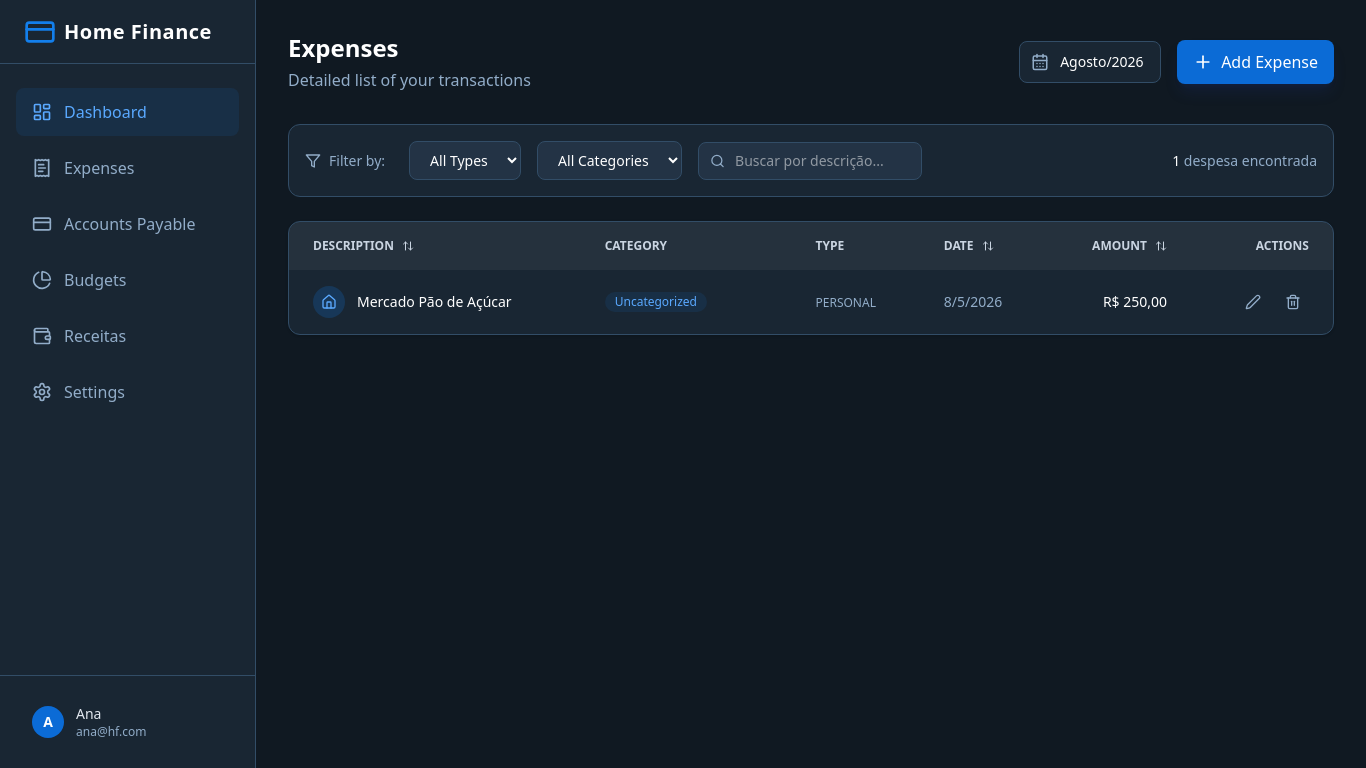
Test: Expenses (integração) › abre o modal de edição completa da despesa
Click the button named "Edit Full Expense". click: (1253, 302)
box: [1237, 286, 1269, 318]
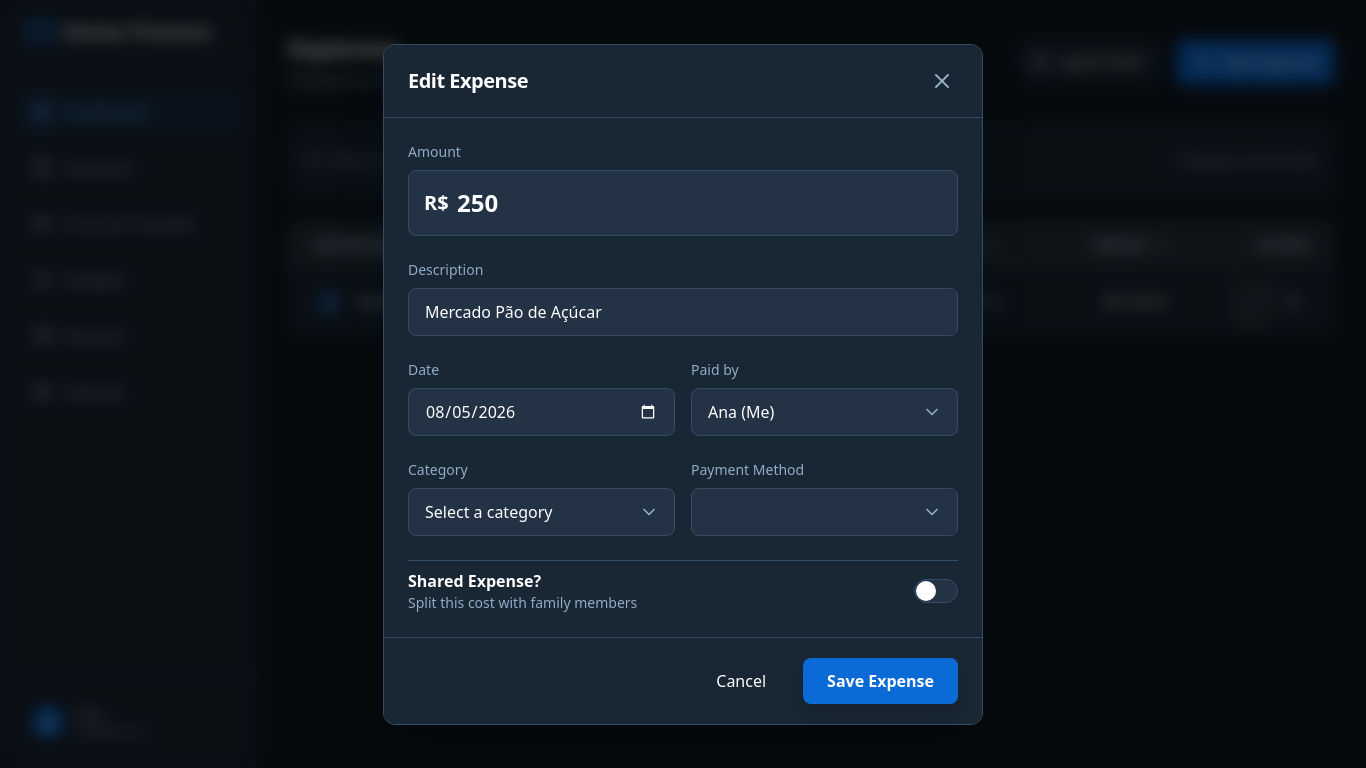
Result: the heading "Edit Expense" is shown at [408, 66, 528, 94]
